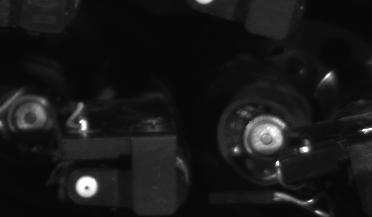fiber: (68, 169, 106, 206)
